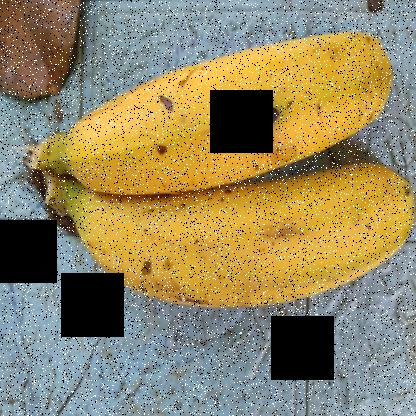freshripe: (96, 150, 415, 322)
ripe: (65, 1, 415, 207)
